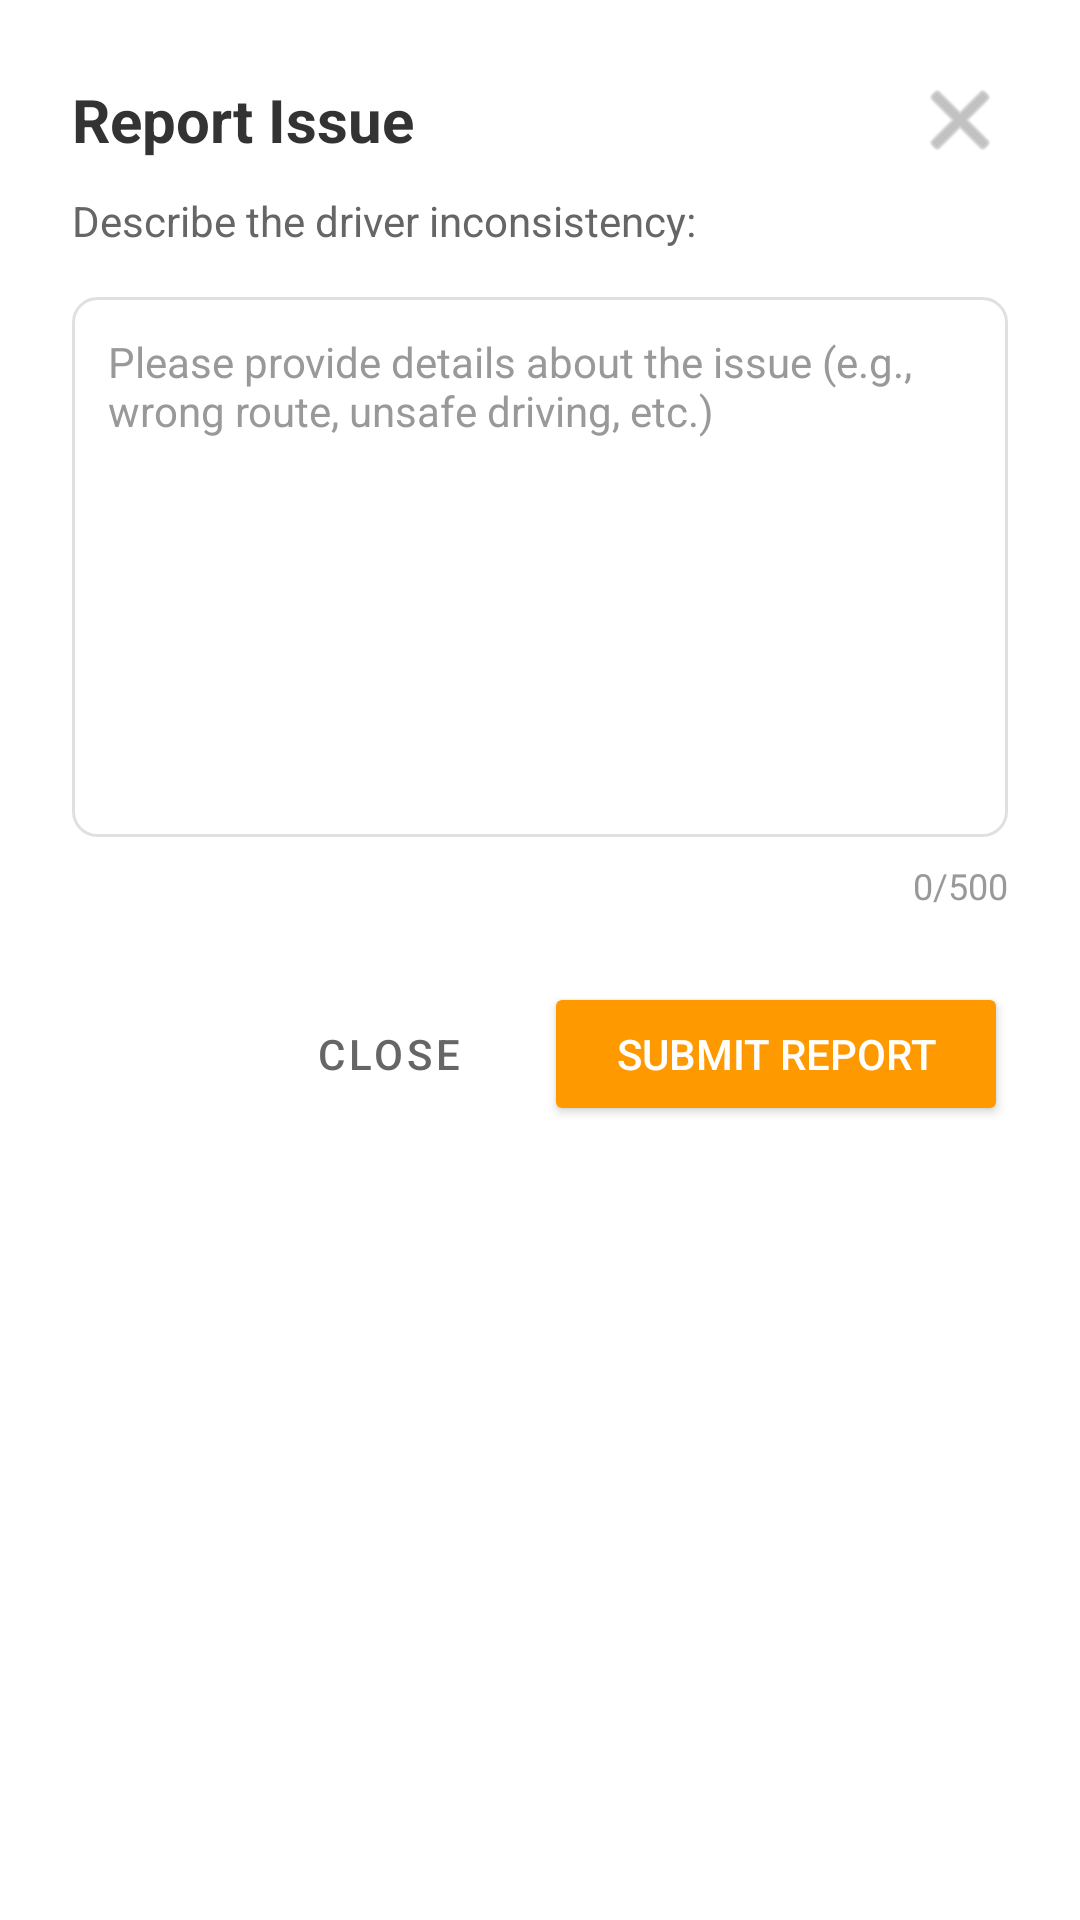

Screen size 1080×1920. Icon name, then its box in pixels as rect(x1, y1, x2, y2):
Close: rect(931, 91, 989, 149)
